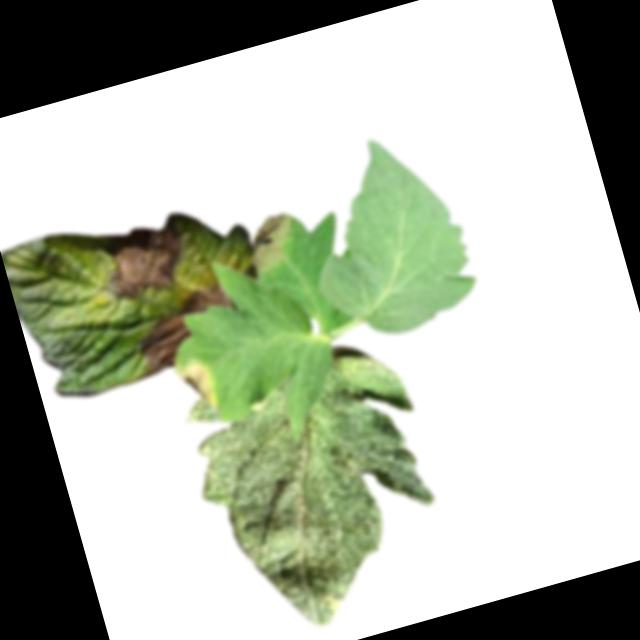Late_blight: (93, 222, 192, 303), (130, 311, 199, 377), (241, 209, 303, 278), (172, 356, 220, 416), (174, 277, 234, 323)
